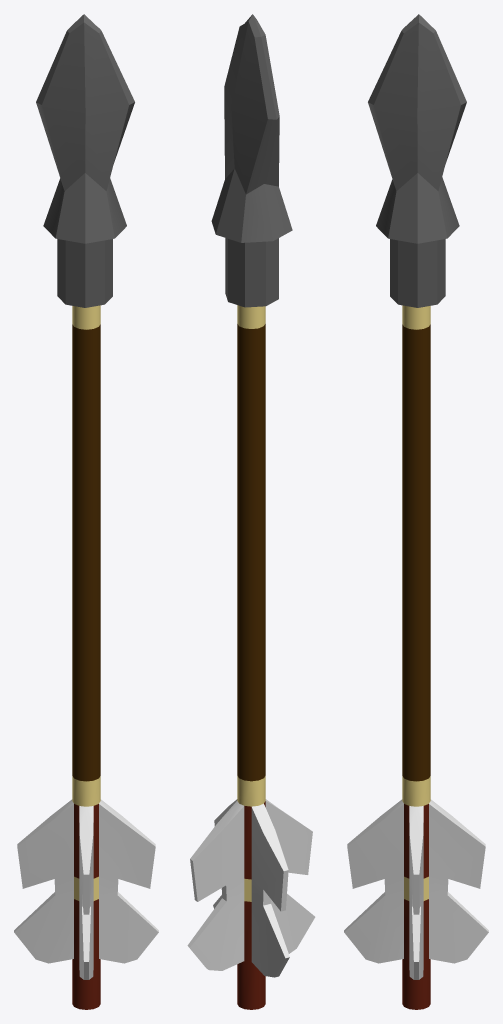
Rendered from arrow_final.fbx.
3 views of the same model, side by side, from view 1: azimuth 90°, elevation 25°; view 2: azimuth 210°, elevation 25°; view 3: azimuth 270°, elevation 25° (orthographic).
Parts seen in each view (by area): view 1: arrow.003; view 2: arrow.003; view 3: arrow.003.
Boxes of the visible parts, x1,y1,x2,y2 form: arrow.003: (14,14,158,1009); arrow.003: (187,14,315,1009); arrow.003: (344,14,488,1009).
Size of the model in its own units: 10.57 by 79.76 by 10.57.
